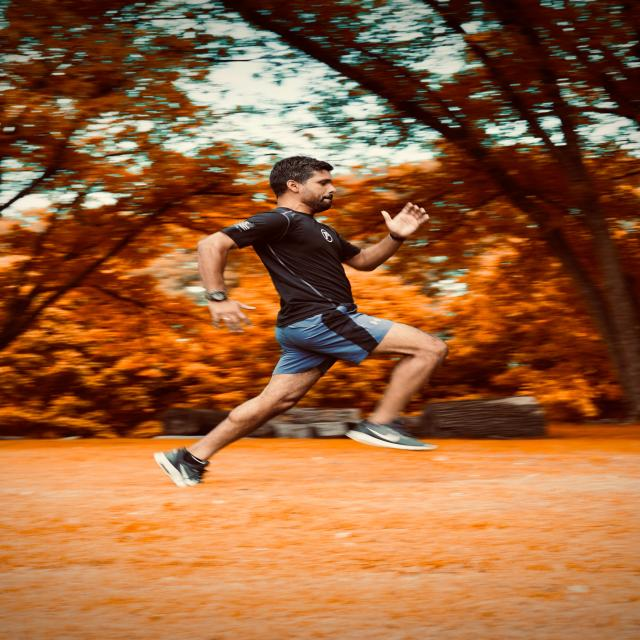running: (152, 154, 451, 488)
